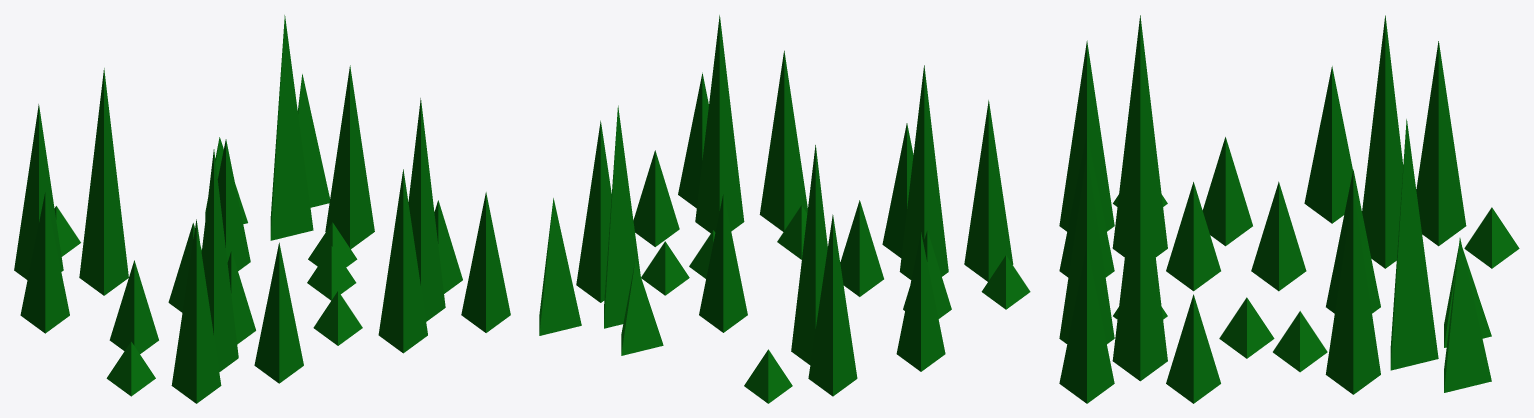
File: QuadrupleGrass.fbx
3 renders of one model, left to right at view 1: azimuth 30°, elevation 25°; view 2: azimuth 150°, elevation 25°; view 3: azimuth 270°, elevation 25°, orthographic. The views are drawn at different scales.
Visible parts, largest first — view 1: QuadrupleGrass; view 2: QuadrupleGrass; view 3: QuadrupleGrass.
Part boxes in pixels (x1,y1,x2,y2): QuadrupleGrass: (14, 15, 510, 403); QuadrupleGrass: (539, 15, 1030, 403); QuadrupleGrass: (1059, 15, 1519, 403).
Size of the model in its own units: 44.5 by 25 by 43.2.
